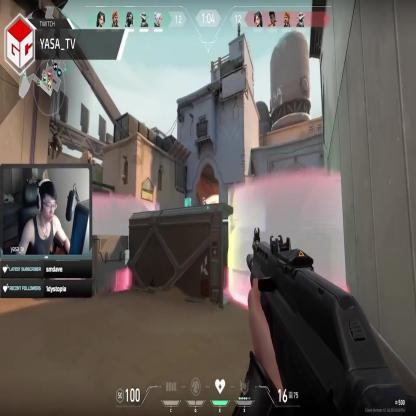enemy: (202, 196, 209, 230)
enemy_head: (202, 197, 206, 206)
